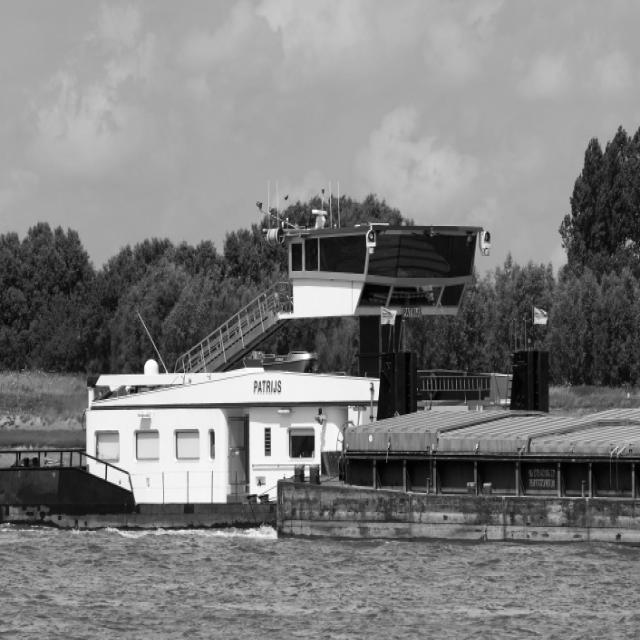tugboat: (1, 203, 559, 551)
